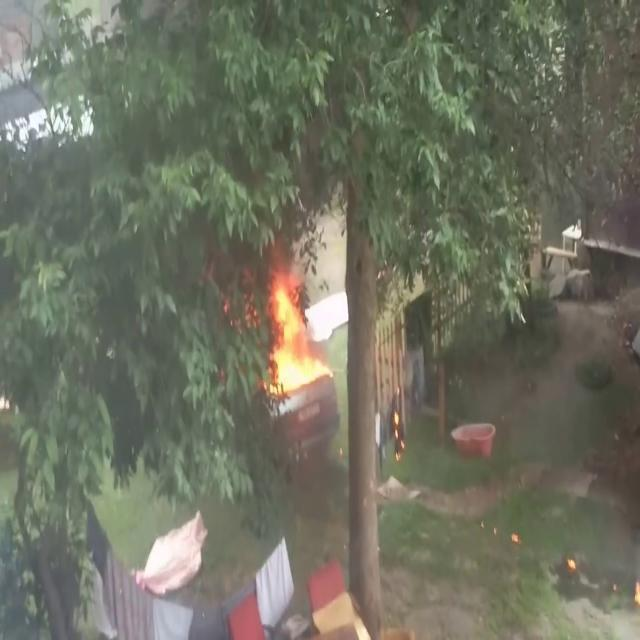Fire: (261, 271, 328, 402)
